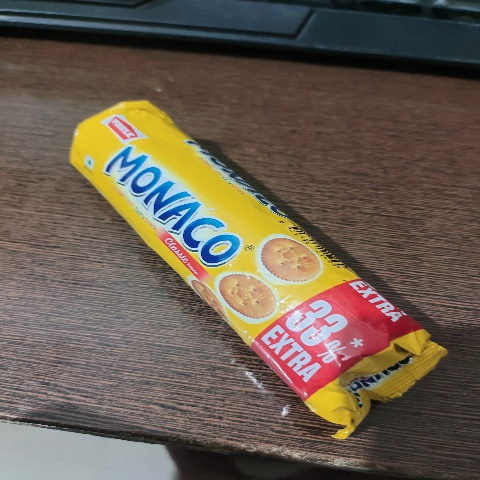monaco: (34, 55, 440, 458)
